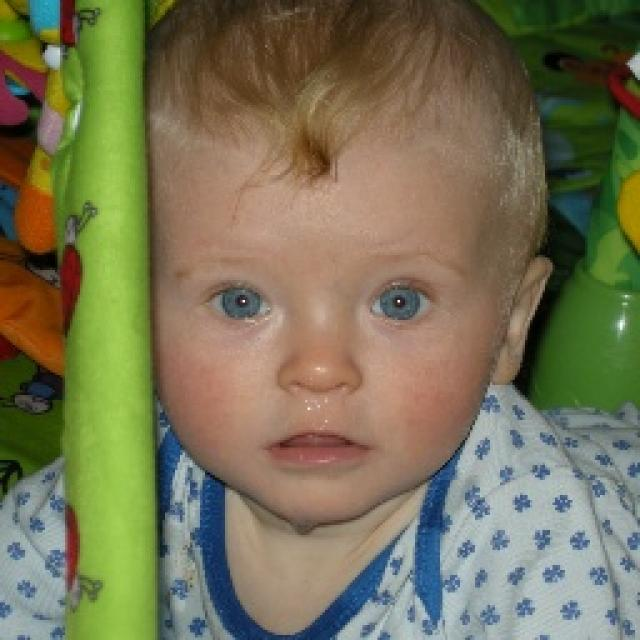earlobe: (488, 342, 523, 388)
eye: (200, 288, 274, 324), (371, 281, 431, 322)
nose: (275, 375, 354, 428)
wholeear: (488, 256, 554, 389)
